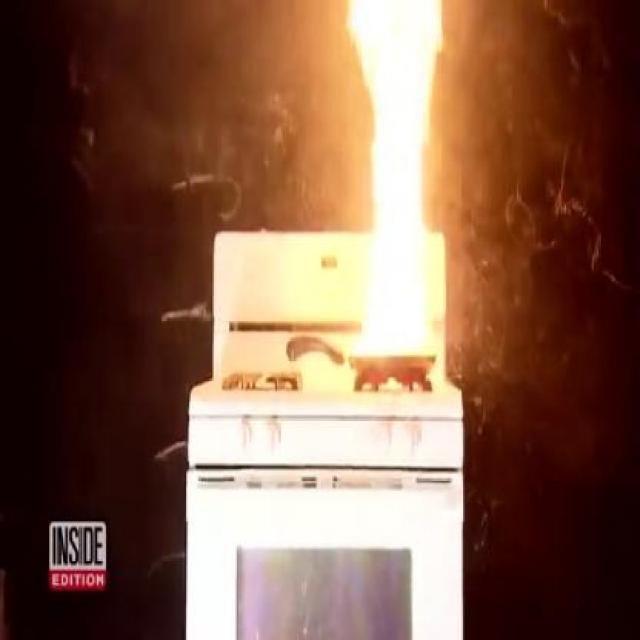fire: (326, 14, 454, 368)
